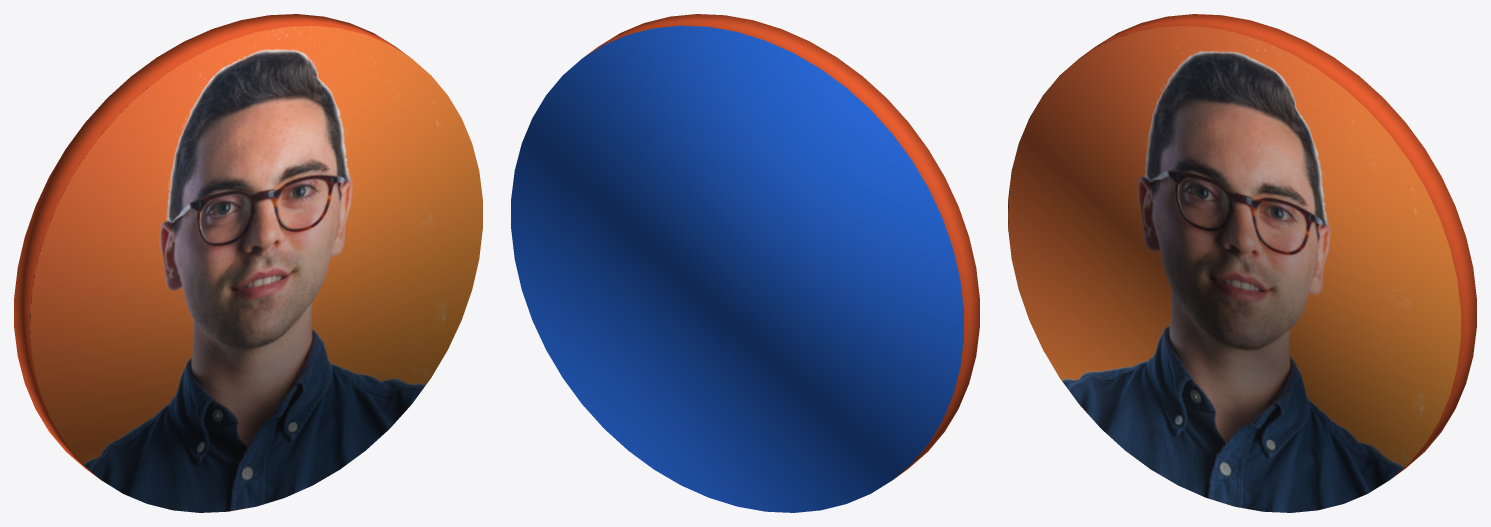
File: PortraitCoin2.gltf
3 views of the same model, side by side, from view 1: azimuth 30°, elevation 25°; view 2: azimuth 150°, elevation 25°; view 3: azimuth 330°, elevation 25° (orthographic).
Visible parts, largest first — view 1: PortraitCoin.001; view 2: PortraitCoin.001; view 3: PortraitCoin.001.
Boxes of the visible parts, x1,y1,x2,y2 form: PortraitCoin.001: [14, 14, 482, 512]; PortraitCoin.001: [511, 14, 979, 512]; PortraitCoin.001: [1008, 14, 1476, 512].
Bounding box in the file's own units: 4.43 × 4.44 × 0.2711.
3 materials, 1 textured.
